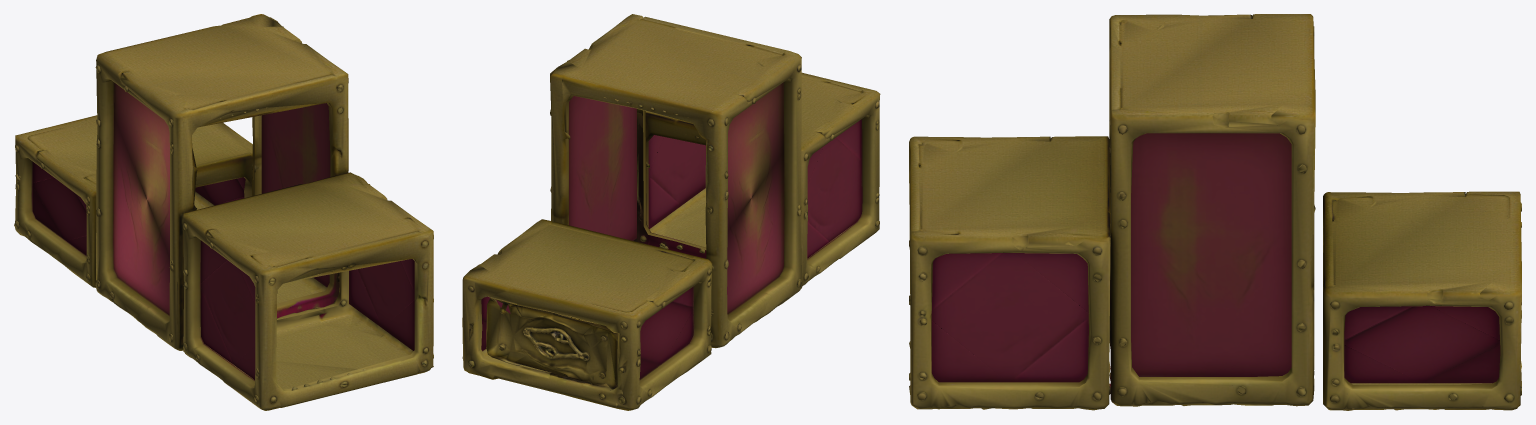
3 views of the same model, side by side, from view 1: azimuth 30°, elevation 25°; view 2: azimuth 150°, elevation 25°; view 3: azimuth 270°, elevation 25° (orthographic). The views are drawn at different scales.
Parts seen in each view (by area): view 1: tripo_node_88f41632-4cbd-41dc-8f7c-91218af857c5; view 2: tripo_node_88f41632-4cbd-41dc-8f7c-91218af857c5; view 3: tripo_node_88f41632-4cbd-41dc-8f7c-91218af857c5.
Boxes of the visible parts, bbox=[...] form: tripo_node_88f41632-4cbd-41dc-8f7c-91218af857c5: bbox=[14, 14, 433, 410]; tripo_node_88f41632-4cbd-41dc-8f7c-91218af857c5: bbox=[462, 14, 880, 410]; tripo_node_88f41632-4cbd-41dc-8f7c-91218af857c5: bbox=[909, 14, 1521, 410].
Size of the model in its own units: 0.416 by 0.5293 by 0.998.
1 material, 1 textured.
